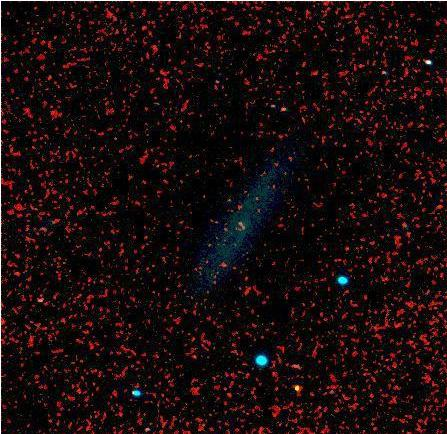star: (282, 373, 312, 403)
